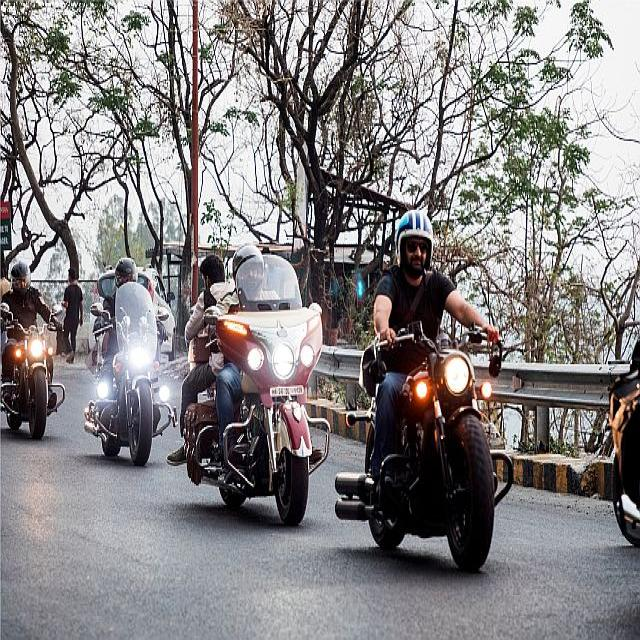motorcycle: (335, 210, 512, 570), (168, 245, 329, 524), (84, 259, 176, 465), (2, 262, 65, 438)
